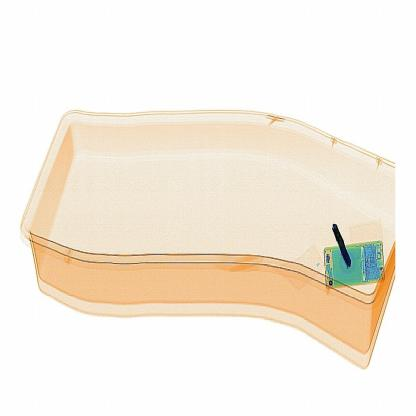knife: (328, 214, 362, 272)
